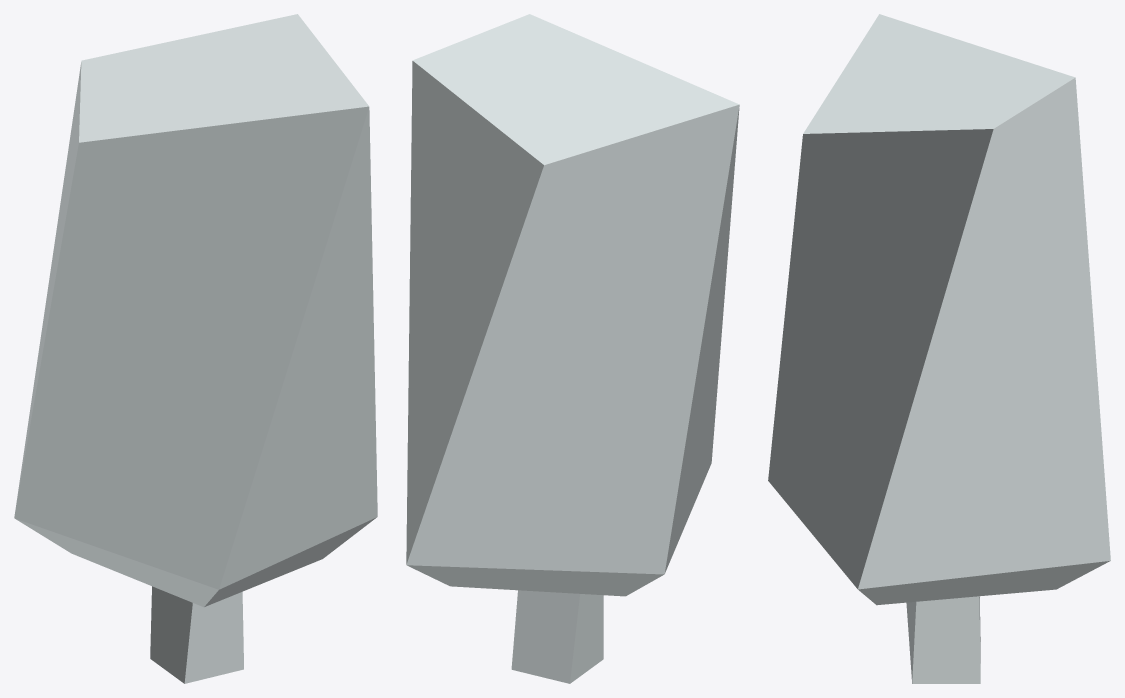
File: Tree.004.fbx
The picture shows the model from 3 angles, left to right: view 1: azimuth 30°, elevation 25°; view 2: azimuth 150°, elevation 25°; view 3: azimuth 270°, elevation 25°; orthographic projection.
Parts seen in each view (by area): view 1: Tree.004; view 2: Tree.004; view 3: Tree.004.
Part boxes in pixels (left/top/right/bottom): Tree.004: left=14, top=14, right=377, bottom=683; Tree.004: left=406, top=14, right=739, bottom=683; Tree.004: left=768, top=14, right=1110, bottom=683.
Size of the model in its own units: 0.7311 by 1.46 by 0.7555.
